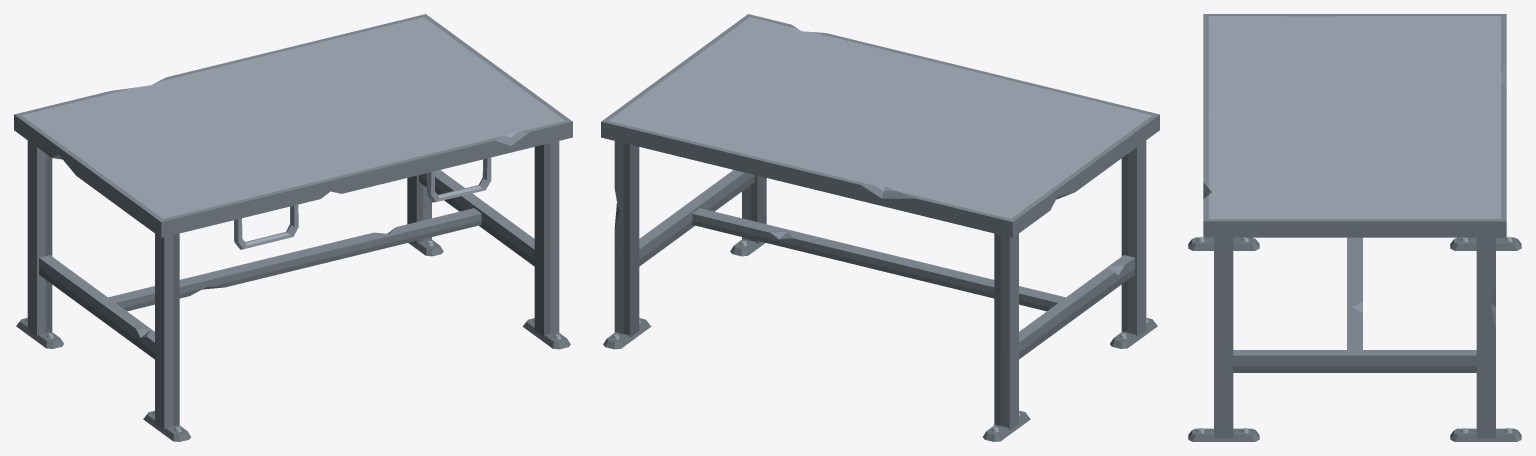
File: SM_Prop_Table_01.fbx
3 renders of one model, left to right at view 1: azimuth 30°, elevation 25°; view 2: azimuth 150°, elevation 25°; view 3: azimuth 270°, elevation 25°, orthographic. The views are drawn at different scales.
Parts seen in each view (by area): view 1: SM_Prop_Table_01; view 2: SM_Prop_Table_01; view 3: SM_Prop_Table_01.
Boxes of the visible parts, left/top/right/bottom form: SM_Prop_Table_01: left=14, top=14, right=572, bottom=441; SM_Prop_Table_01: left=601, top=14, right=1159, bottom=441; SM_Prop_Table_01: left=1188, top=14, right=1521, bottom=441.
Bounding box in the file's own units: 154 × 77.75 × 105.
